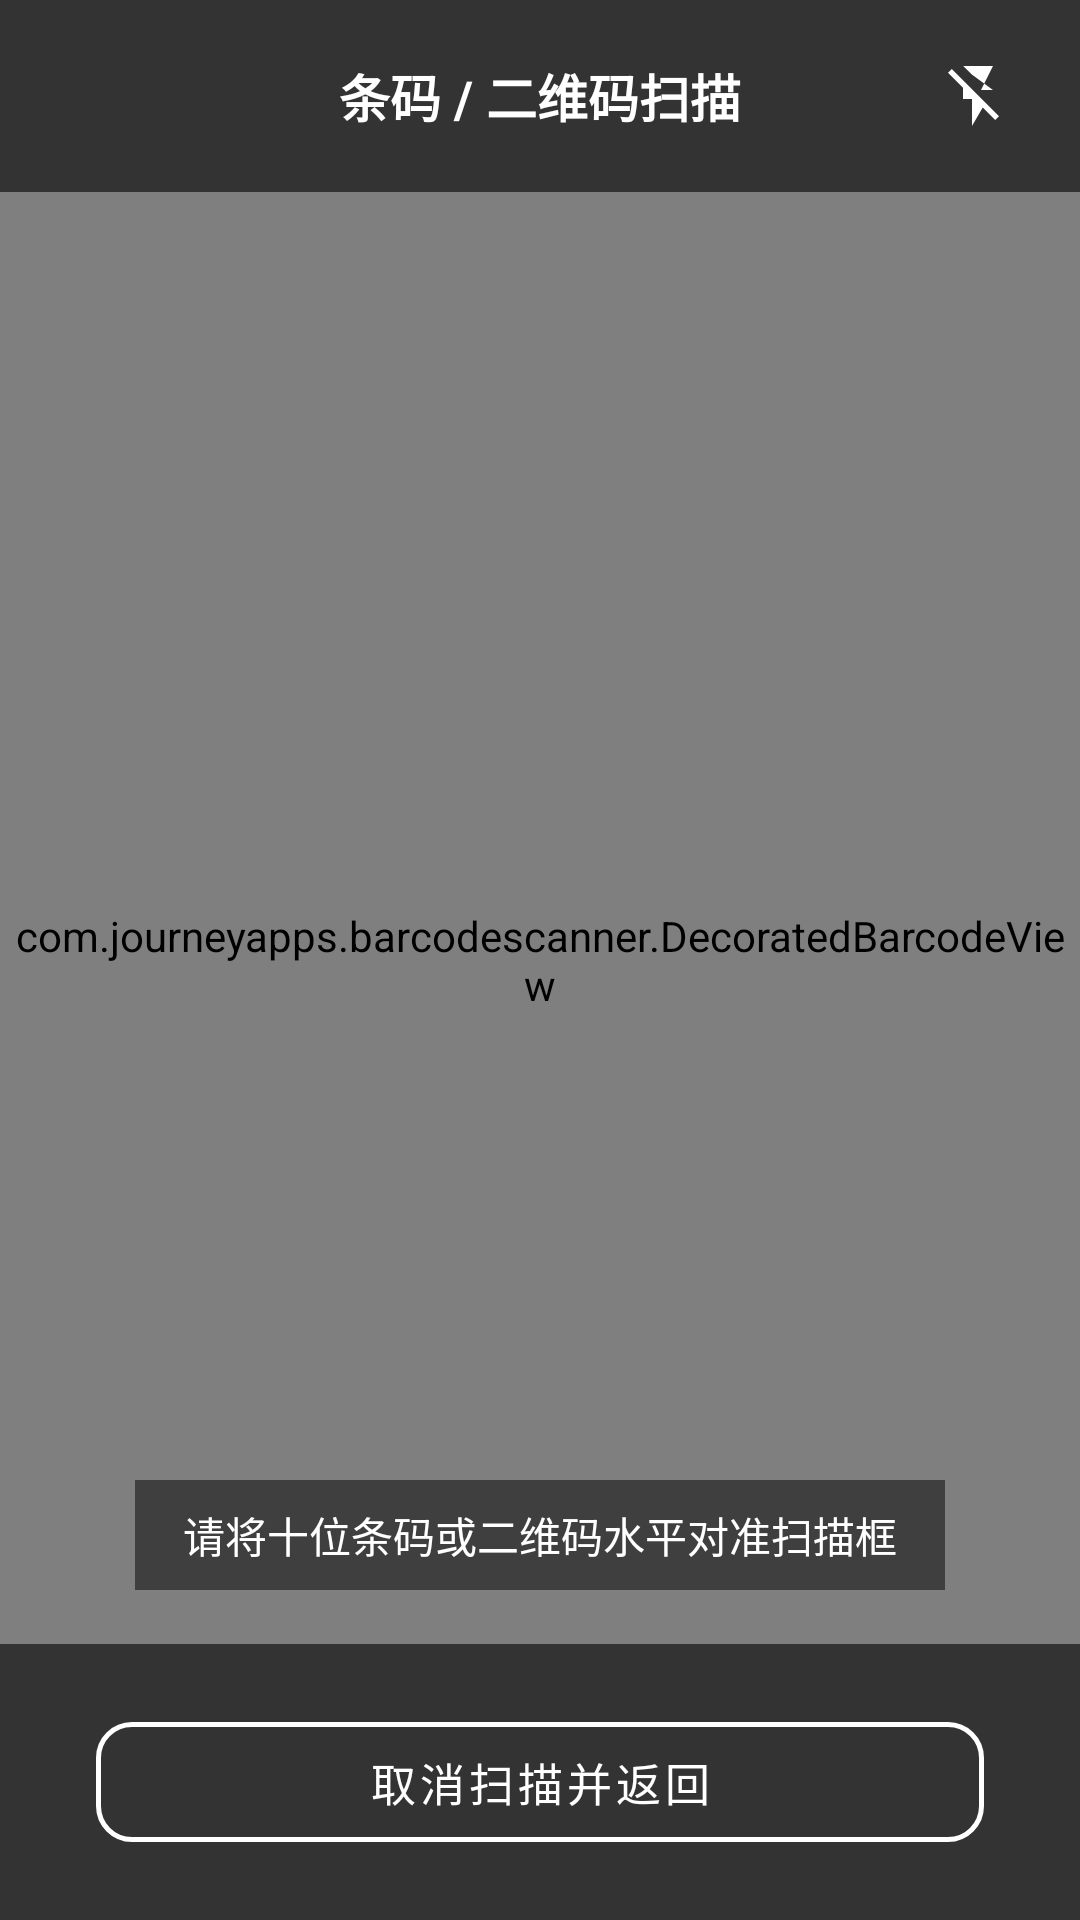

Point at icon controls on the screen. Image size 1080 × 1920, points as (x=x, y=y).
フラッシュライト: (x=973, y=96)
